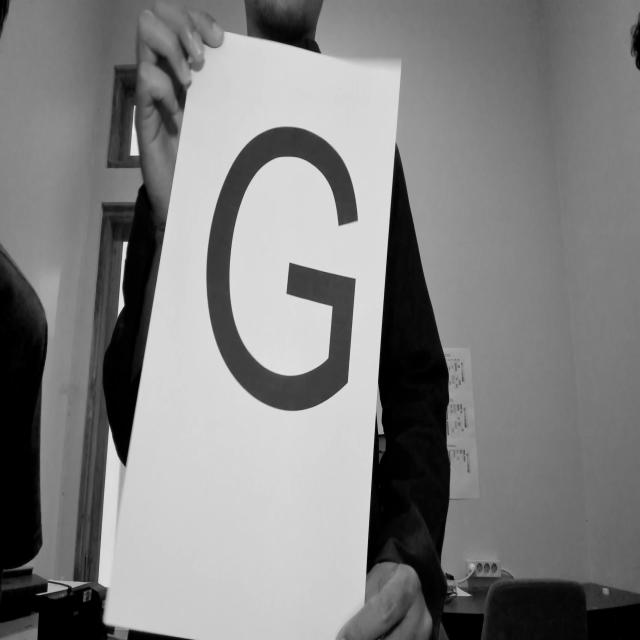g: (197, 111, 361, 442)
